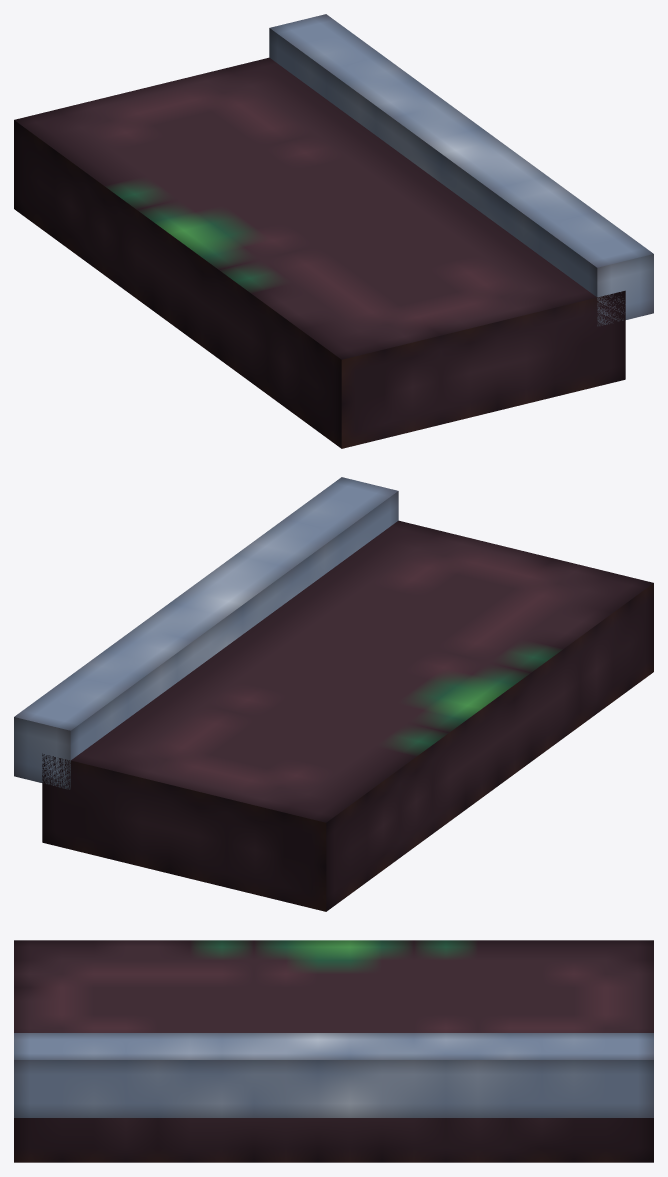
The model's file is exit_level_trapdoor.fbx.
3 renders of one model, top to bottom at view 1: azimuth 30°, elevation 25°; view 2: azimuth 150°, elevation 25°; view 3: azimuth 270°, elevation 25°, orthographic. The views are drawn at different scales.
Parts seen in each view (by area): view 1: Cube.070; view 2: Cube.070; view 3: Cube.070.
Boxes of the visible parts, x1=… form: Cube.070: x1=14, y1=14, x2=653, y2=448; Cube.070: x1=14, y1=477, x2=653, y2=911; Cube.070: x1=14, y1=940, x2=653, y2=1162.
Size of the model in its own units: 110 by 40 by 200.
